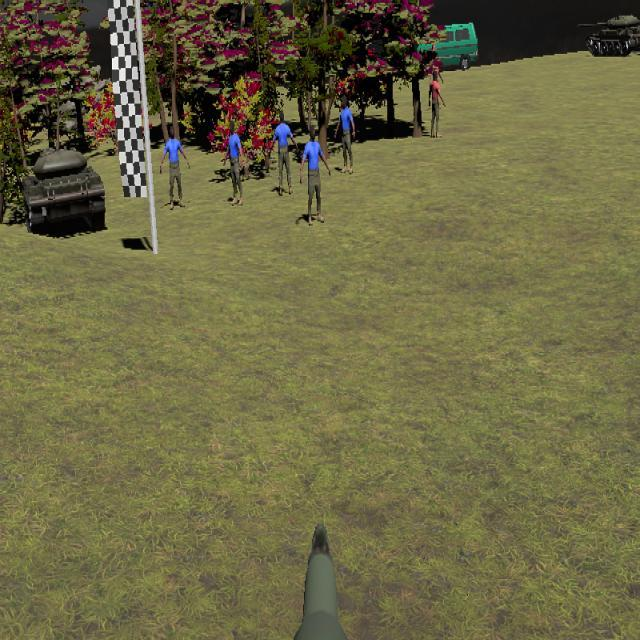Human: (299, 126, 331, 223), (300, 124, 331, 223), (269, 112, 299, 196), (160, 126, 189, 209), (224, 121, 244, 205), (335, 95, 355, 174), (429, 71, 445, 138)
Tank: (22, 147, 105, 234), (577, 14, 640, 57)
car: (414, 23, 478, 72)
